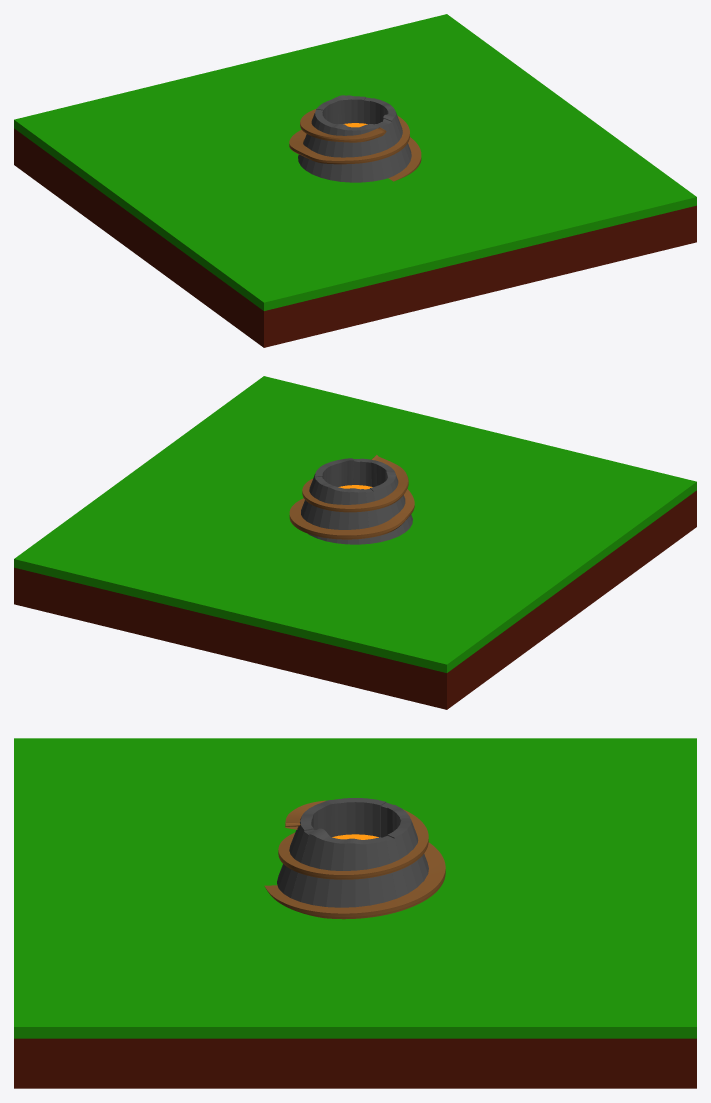
File: szdv.fbx
3 renders of one model, top to bottom at view 1: azimuth 30°, elevation 25°; view 2: azimuth 150°, elevation 25°; view 3: azimuth 270°, elevation 25°, orthographic. The views are drawn at different scales.
Visible parts, largest first — view 1: Cube, Cylinder, Cylinder.001; view 2: Cube, Cylinder, Cylinder.001; view 3: Cube, Cylinder, Cylinder.001.
Part boxes in pixels (bbox=[...]): Cube: bbox=[14, 14, 696, 347]; Cylinder: bbox=[298, 95, 411, 182]; Cylinder.001: bbox=[289, 109, 421, 181]; Cube: bbox=[14, 376, 696, 709]; Cylinder: bbox=[301, 458, 412, 544]; Cylinder.001: bbox=[289, 455, 414, 539]; Cube: bbox=[14, 738, 696, 1088]; Cylinder: bbox=[277, 798, 428, 907]; Cylinder.001: bbox=[264, 800, 445, 919].
Size of the model in its own units: 59786 by 12214 by 59786.
